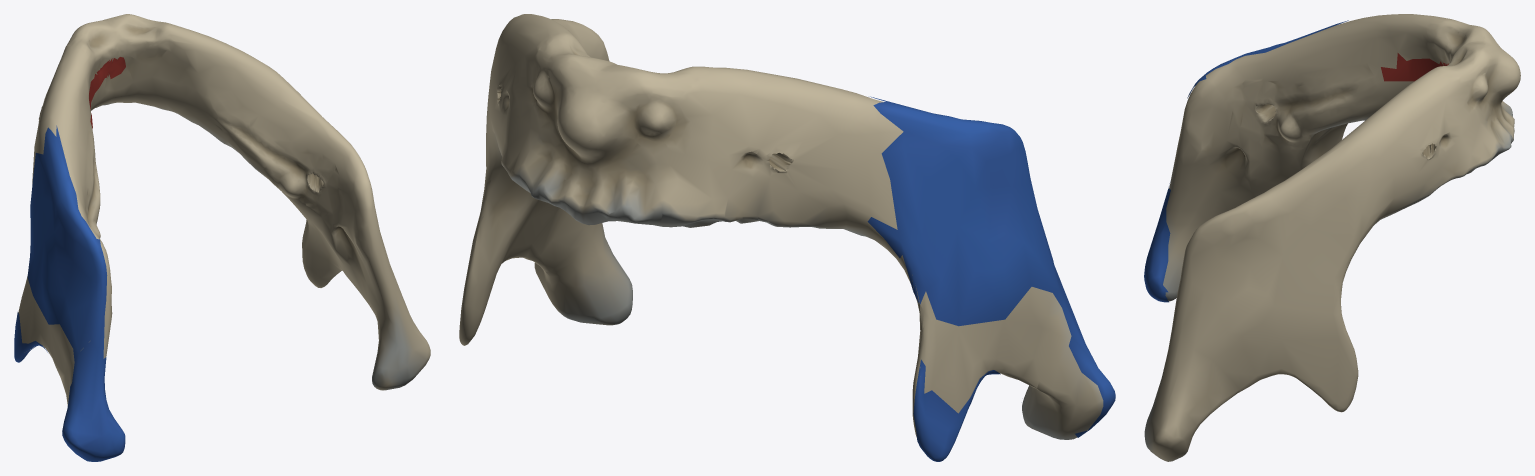
Rendered from mandibula.glb.
The picture shows the model from 3 angles, left to right: view 1: azimuth 30°, elevation 25°; view 2: azimuth 150°, elevation 25°; view 3: azimuth 270°, elevation 25°; orthographic projection. The views are drawn at different scales.
Visible parts, largest first — view 1: FJ3289, insertio__angulus__m-pterygoideus-medialis, insertio__caput-condylaris__m-pterygoideus-lateralis, mandibula__corpus-foramen-mentale, origo__corpus-foramen-mentale__FJ1583, insertio__processus-coronoideus__m-temporalis; view 2: mandibula__corpus-foramen-mentale, FJ3289, insertio__angulus__m-pterygoideus-medialis, insertio__processus-coronoideus__m-temporalis, insertio__caput-condylaris__m-pterygoideus-lateralis; view 3: FJ3289, mandibula__corpus-foramen-mentale, insertio__caput-condylaris__m-pterygoideus-lateralis, origo__corpus-foramen-mentale__FJ1583, insertio__angulus__m-pterygoideus-medialis.
Part boxes in pixels (box(x1,y1,x2,y2)): FJ3289: box(18, 14, 430, 405); insertio__angulus__m-pterygoideus-medialis: box(27, 125, 107, 352); insertio__caput-condylaris__m-pterygoideus-lateralis: box(62, 313, 125, 461); mandibula__corpus-foramen-mentale: box(32, 14, 199, 183); origo__corpus-foramen-mentale__FJ1583: box(89, 57, 125, 128); insertio__processus-coronoideus__m-temporalis: box(14, 312, 47, 362); mandibula__corpus-foramen-mentale: box(494, 24, 902, 229); FJ3289: box(459, 14, 1102, 439); insertio__angulus__m-pterygoideus-medialis: box(868, 97, 1059, 326); insertio__processus-coronoideus__m-temporalis: box(913, 359, 1000, 461); insertio__caput-condylaris__m-pterygoideus-lateralis: box(1053, 265, 1115, 437); FJ3289: box(1144, 14, 1481, 461); mandibula__corpus-foramen-mentale: box(1373, 14, 1520, 178); insertio__caput-condylaris__m-pterygoideus-lateralis: box(1144, 183, 1170, 302); origo__corpus-foramen-mentale__FJ1583: box(1381, 53, 1448, 81); insertio__angulus__m-pterygoideus-medialis: box(1187, 20, 1347, 97).
Size of the model in its own units: 107 by 84.57 by 85.44.
